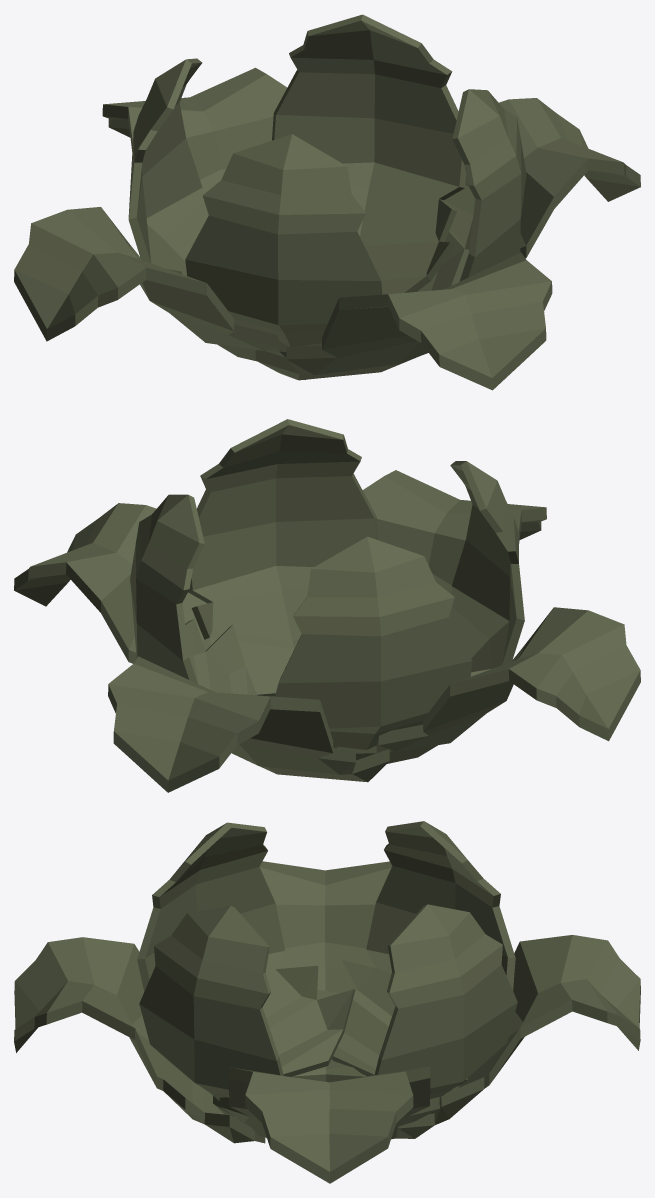
The model's file is Lettuce_Harvested.gltf.
3 renders of one model, top to bottom at view 1: azimuth 30°, elevation 25°; view 2: azimuth 150°, elevation 25°; view 3: azimuth 270°, elevation 25°, orthographic. The views are drawn at different scales.
Visible parts, largest first — view 1: Lettuce_Harvested; view 2: Lettuce_Harvested; view 3: Lettuce_Harvested.
Part boxes in pixels (box(x1,y1,x2,y2)): Lettuce_Harvested: box(14, 14, 640, 390); Lettuce_Harvested: box(14, 419, 640, 792); Lettuce_Harvested: box(14, 821, 640, 1183).
Bounding box in the file's own units: 1.04 × 0.4742 × 1.04.
